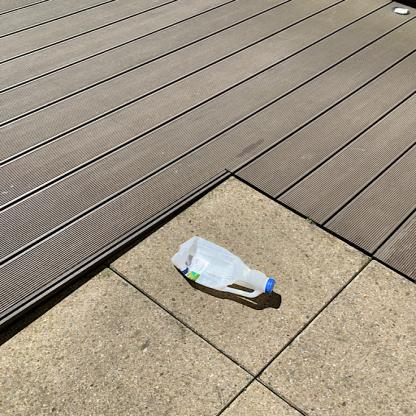trash: (172, 236, 280, 302)
